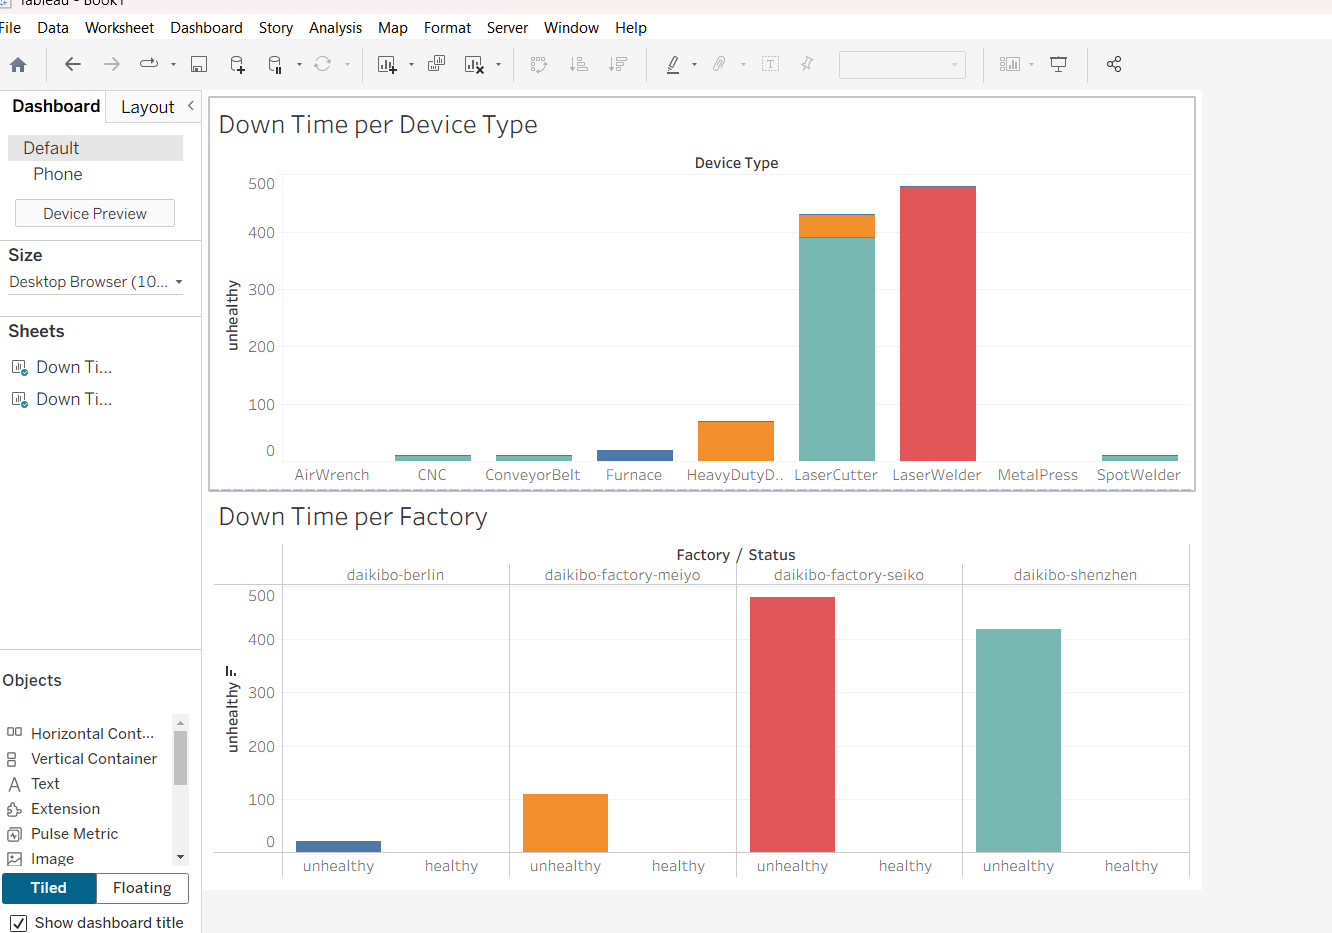

The page's visual inventory and layout, read from the dashboard file:
{"tool":"tableau","page":{"name":"Dashboard 1","canvas":[1000,800],"ordinal":0},"visuals":[{"type":"title","box":[8,8,984,46]},{"type":"worksheet","title":"Down Time per Device Type","mark":"Automatic","rows":["Calculation_84723998703013890"],"cols":["deviceType"],"box":[8,54,984,369]},{"type":"worksheet","title":"Down Time per Factory","mark":"Automatic","rows":["Calculation_84723998703013890"],"cols":["factory","status"],"box":[8,423,984,369]}]}

Visuals, with their boxes on the page's 1000x800 design canvas (x1, y1, x2, y2). These are canvas units, not pixel positions in the 1332x933 screenshot, which may show the page scaled, cropped or inside an application window:
title: <region>8, 8, 992, 54</region>
"Down Time per Device Type" worksheet: <region>8, 54, 992, 423</region>
"Down Time per Factory" worksheet: <region>8, 423, 992, 792</region>
